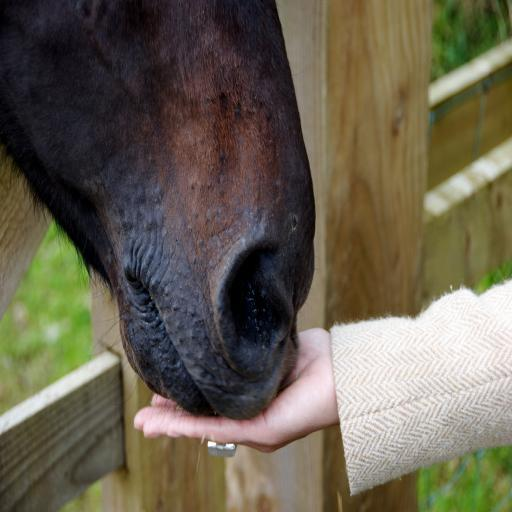Horse: (0, 0, 318, 433)
